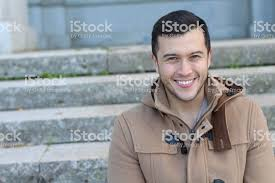asian_male: (145, 8, 226, 109)
